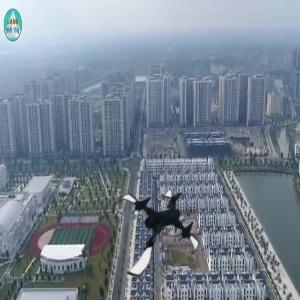drone: (104, 182, 205, 283)
